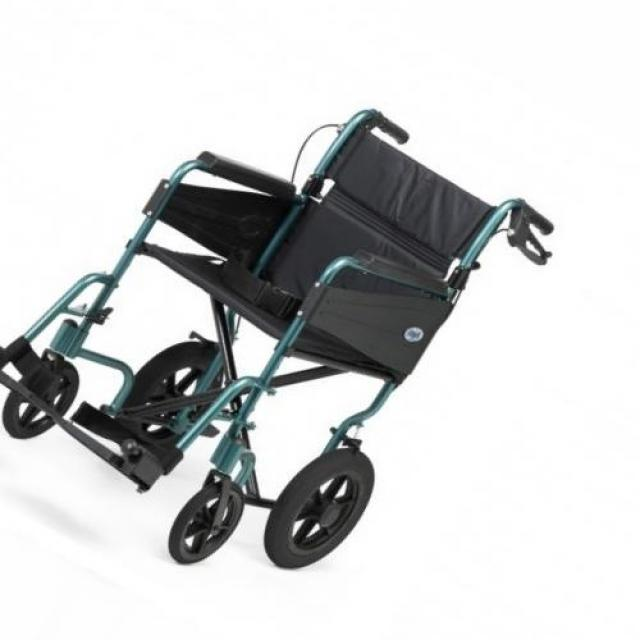wheelchair: (1, 62, 570, 592)
